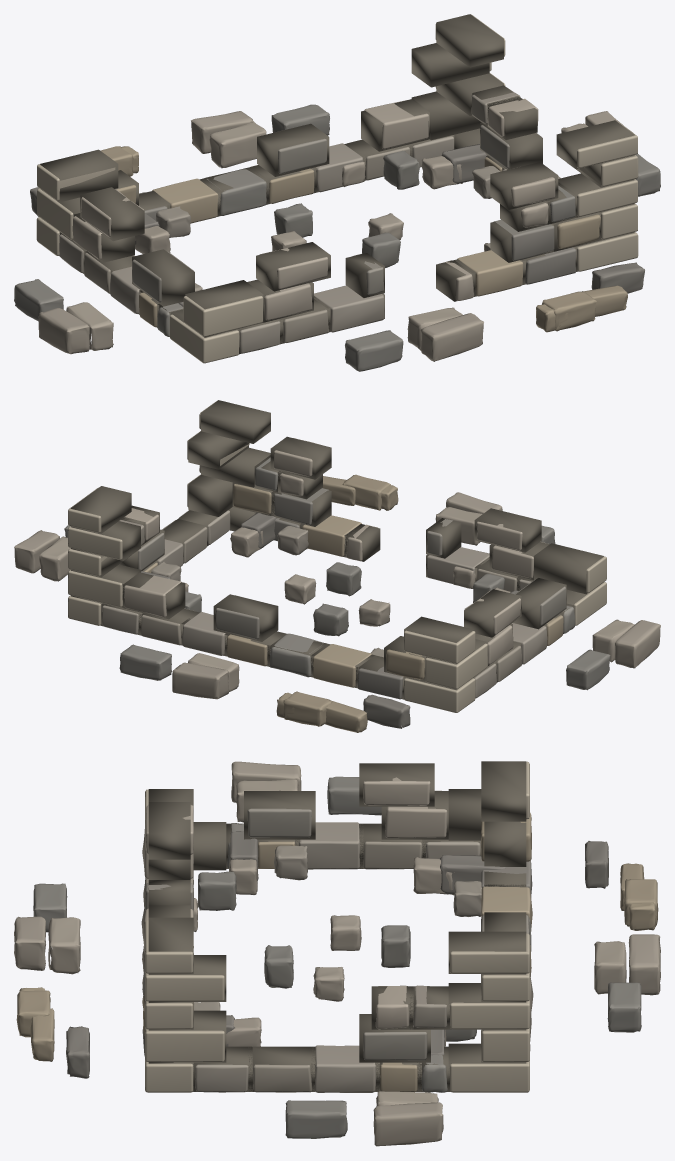
Rendered from ruin_hall.gltf.
3 views of the same model, one above another, from view 1: azimuth 30°, elevation 25°; view 2: azimuth 150°, elevation 25°; view 3: azimuth 270°, elevation 25° (orthographic). The views are drawn at different scales.
Visible parts, largest first — view 1: ruin_hall_stone_LOD0, ruin_hall_mortar_LOD0; view 2: ruin_hall_stone_LOD0, ruin_hall_mortar_LOD0; view 3: ruin_hall_stone_LOD0, ruin_hall_mortar_LOD0.
Boxes of the visible parts, x1,y1,x2,y2 form: ruin_hall_stone_LOD0: (14,14,660,371); ruin_hall_mortar_LOD0: (40,14,634,354); ruin_hall_stone_LOD0: (14,400,660,732); ruin_hall_mortar_LOD0: (71,400,603,699); ruin_hall_stone_LOD0: (14,761,660,1146); ruin_hall_mortar_LOD0: (148,761,526,1091).
Size of what is drawn, in the model's own units: 8.74 by 1.66 by 6.74.
